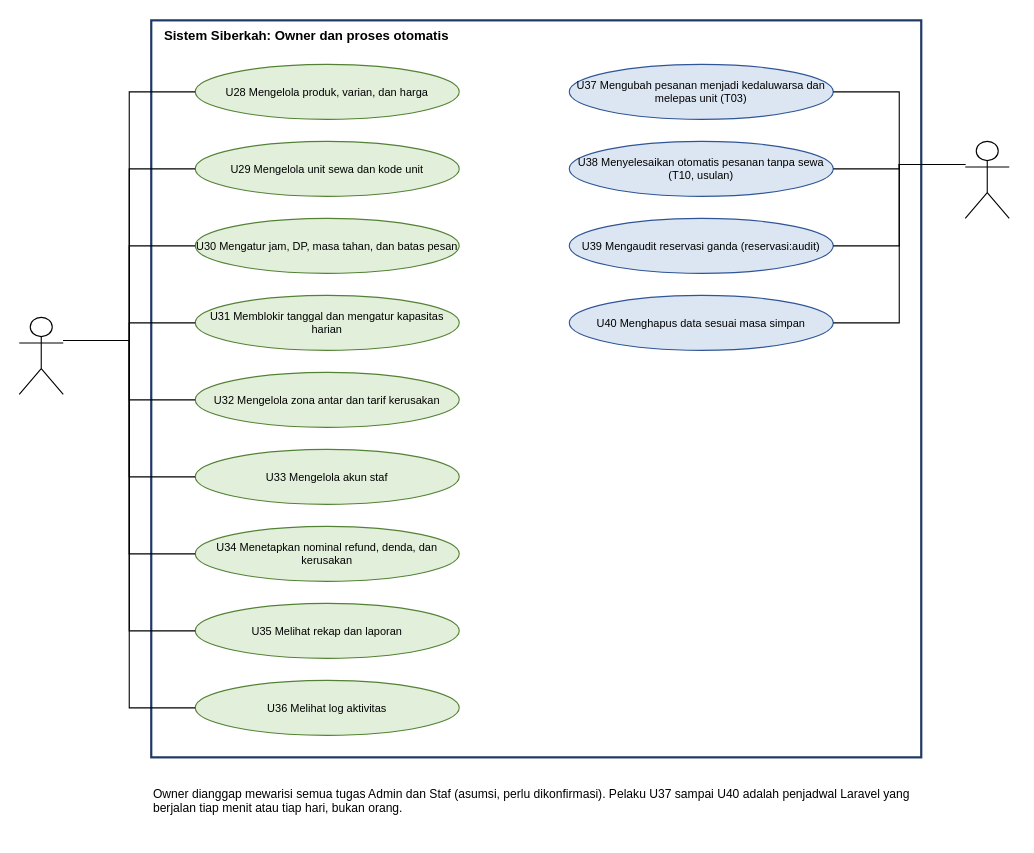
The diagram is 1034 pixels wide and 853 high, and some of its shapes have lost their labels. The shapes that lost their labels are listed below. From the top down, each one's centre as x and y in pixels, then its label:
At point 986,179: "Penjadwal (otomatis)".
At point 40,355: "Owner".
